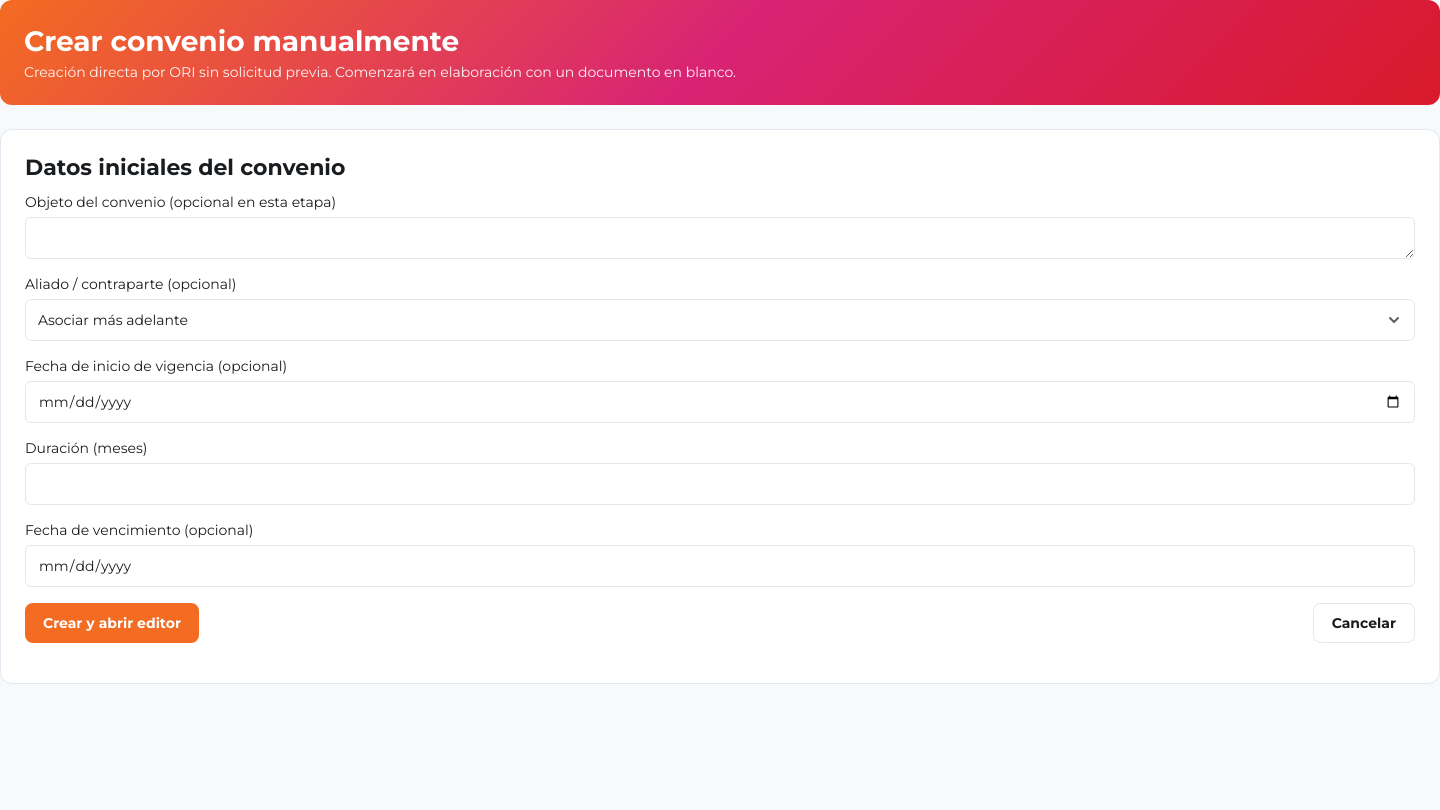
HT-08 - vigencia en la creación manual › rechaza inicio retroactivo y conserva el borrador sin enviar
Type "2000-01-01" into the date field labelled "Fecha de inicio de vigencia (opcional)". click: (720, 402)
box: [25, 381, 1415, 423]
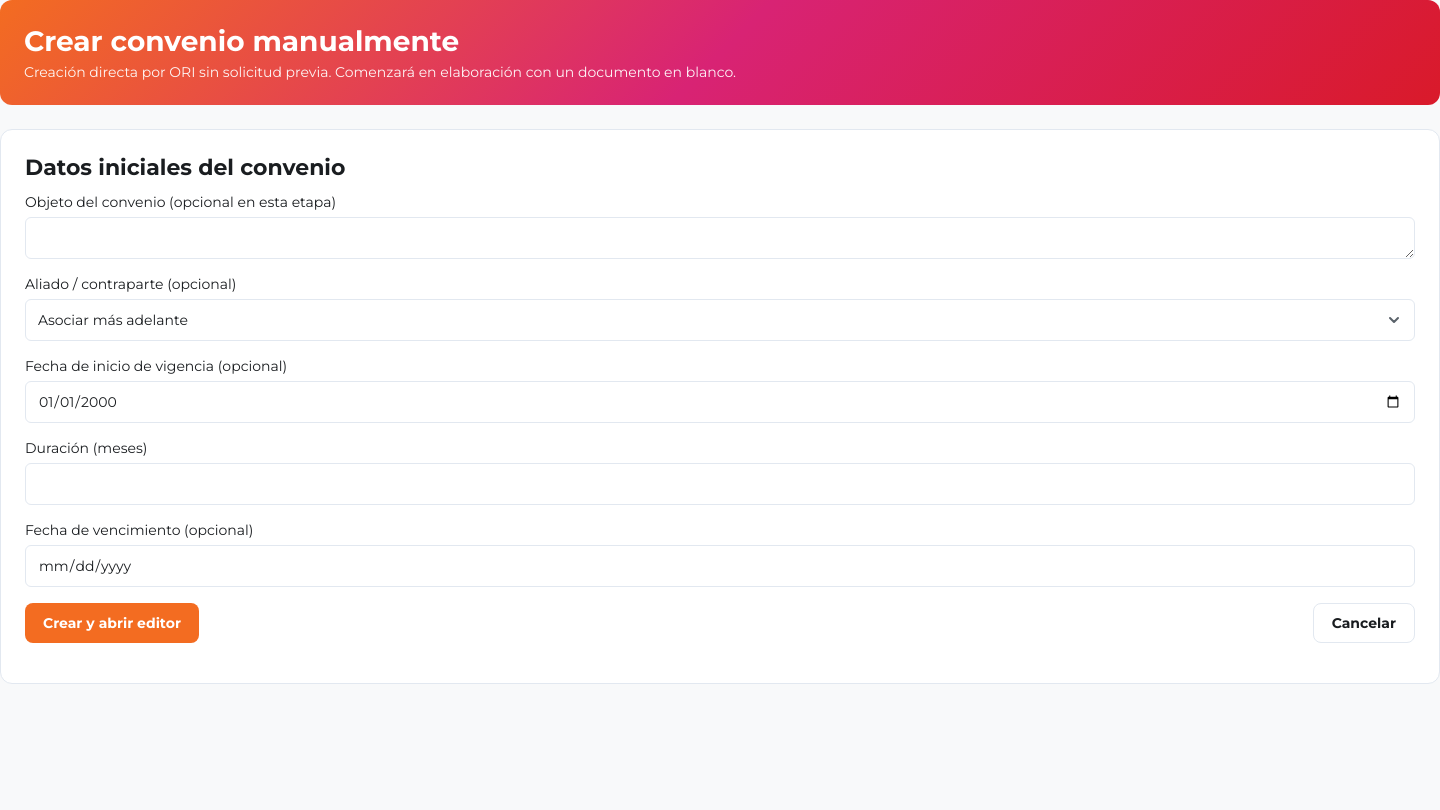
Click the button "Crear y abrir editor". click: (112, 623)
box: [25, 603, 199, 643]
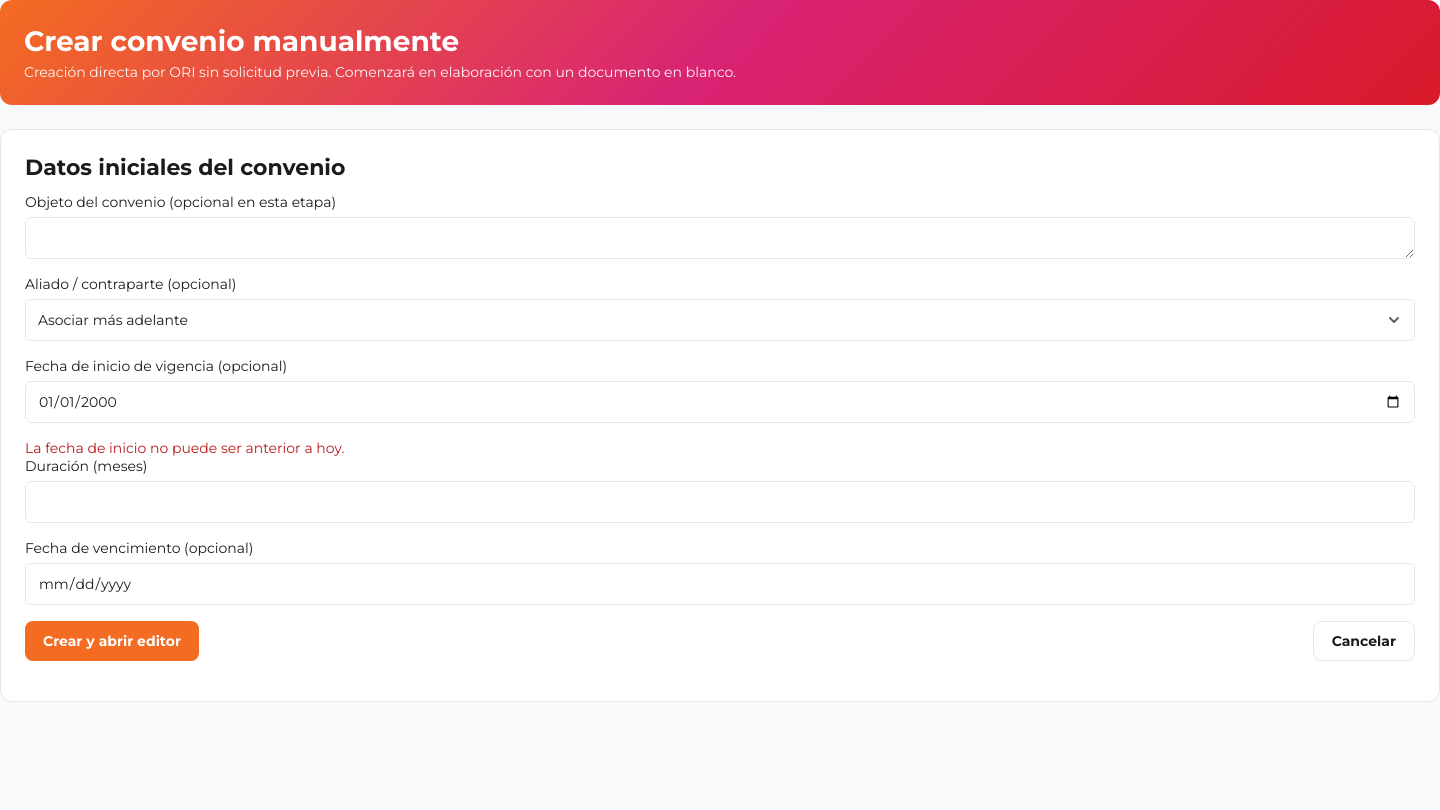
Expected: the text "La fecha de inicio no puede ser anterior a hoy." is shown, [25, 439, 344, 457]
